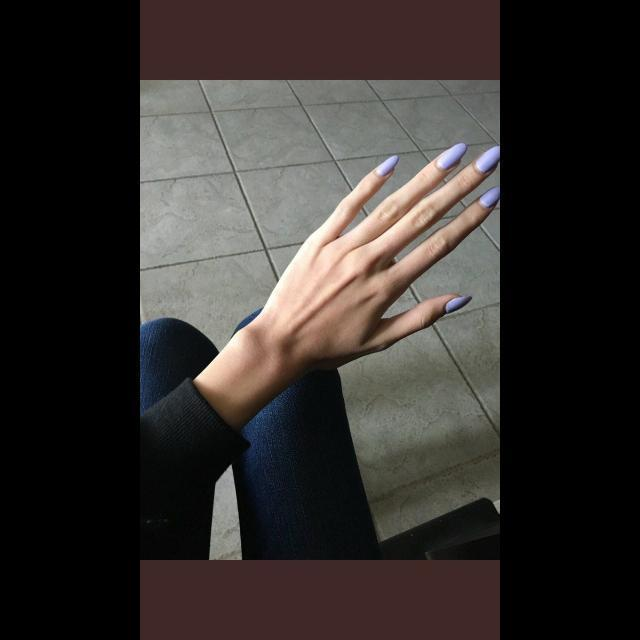bare_hand: (254, 136, 500, 373)
